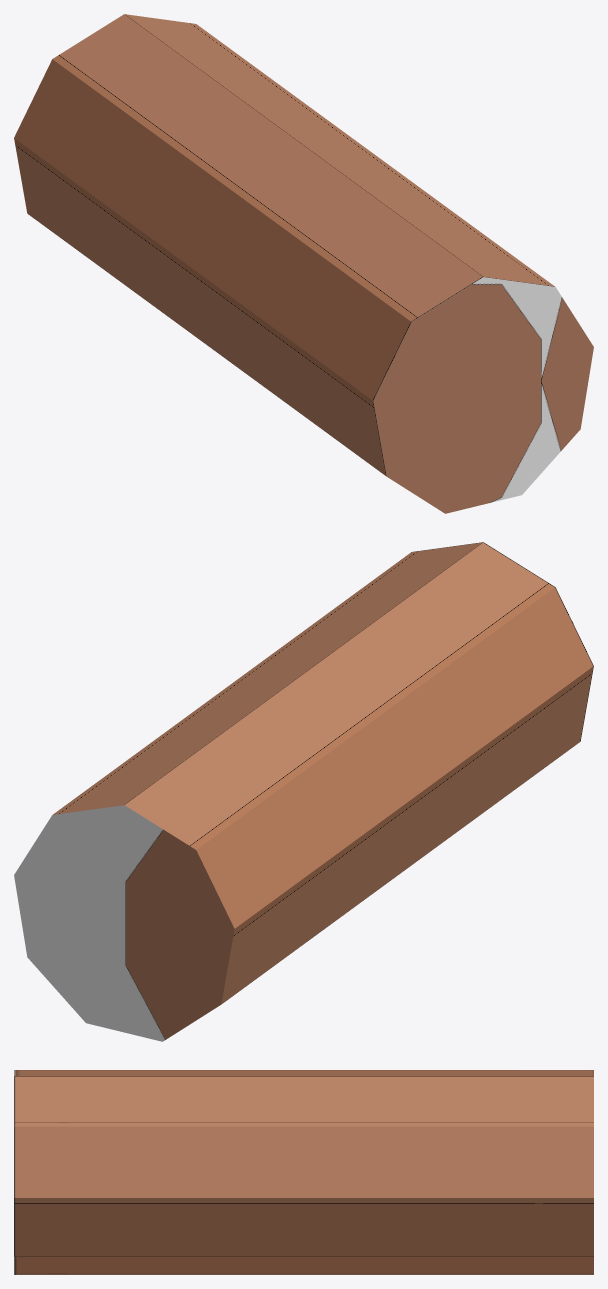
Rendered from beam.obj.
The picture shows the model from 3 angles, top to bottom: view 1: azimuth 30°, elevation 25°; view 2: azimuth 150°, elevation 25°; view 3: azimuth 270°, elevation 25°; orthographic projection. The views are drawn at different scales.
Parts seen in each view (by area): view 1: beam_Cylinder.001; view 2: beam_Cylinder.001; view 3: beam_Cylinder.001.
Part boxes in pixels (x1,y1,x2,y2): beam_Cylinder.001: [14, 14, 593, 513]; beam_Cylinder.001: [14, 542, 593, 1041]; beam_Cylinder.001: [14, 1070, 593, 1274].
Size of the model in its own units: 0.7091 by 0.6983 by 2.
1 material, 1 textured.
